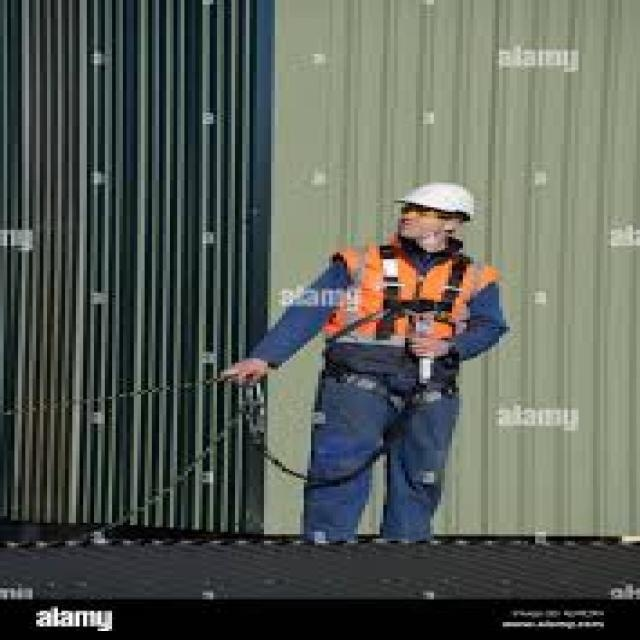Arnes_seguridad: (328, 249, 483, 406)
